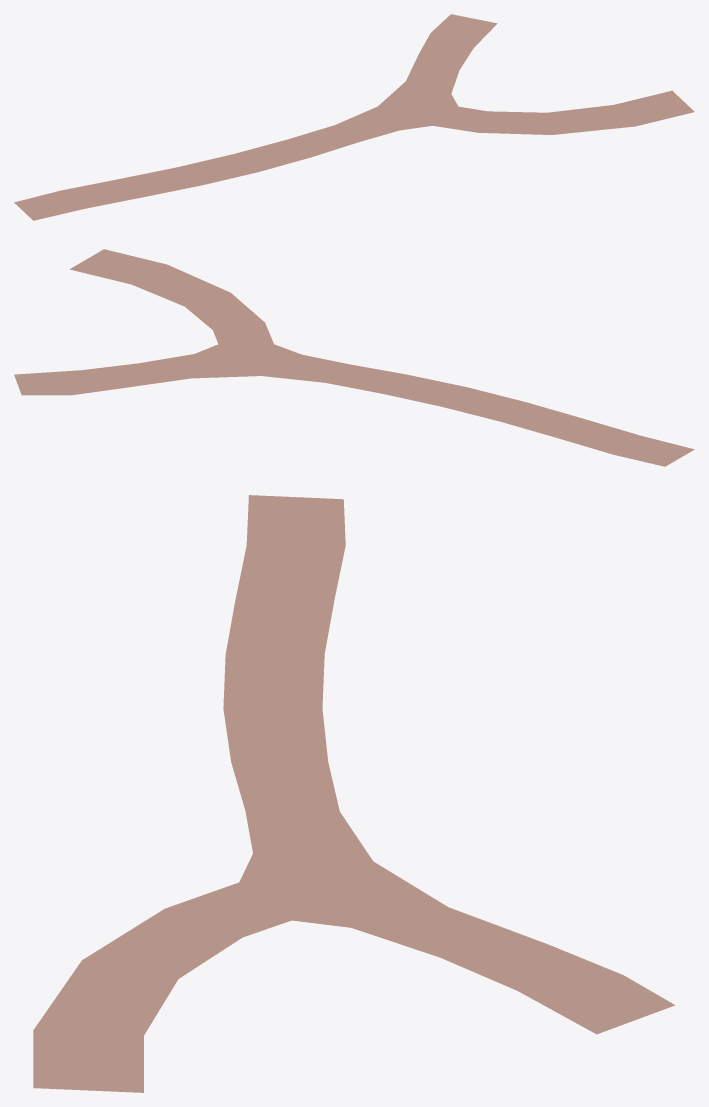
File: Fietsweg.fbx
The picture shows the model from 3 angles, top to bottom: view 1: azimuth 30°, elevation 25°; view 2: azimuth 150°, elevation 25°; view 3: azimuth 270°, elevation 25°; orthographic projection. The views are drawn at different scales.
Parts seen in each view (by area): view 1: Fietsweg; view 2: Fietsweg; view 3: Fietsweg.
Part boxes in pixels (x1,y1,x2,y2): Fietsweg: (14,14,694,220); Fietsweg: (14,249,694,466); Fietsweg: (33,495,674,1092).
Bounding box in the file's own units: 16.16 × 0.0364 × 7.34.
